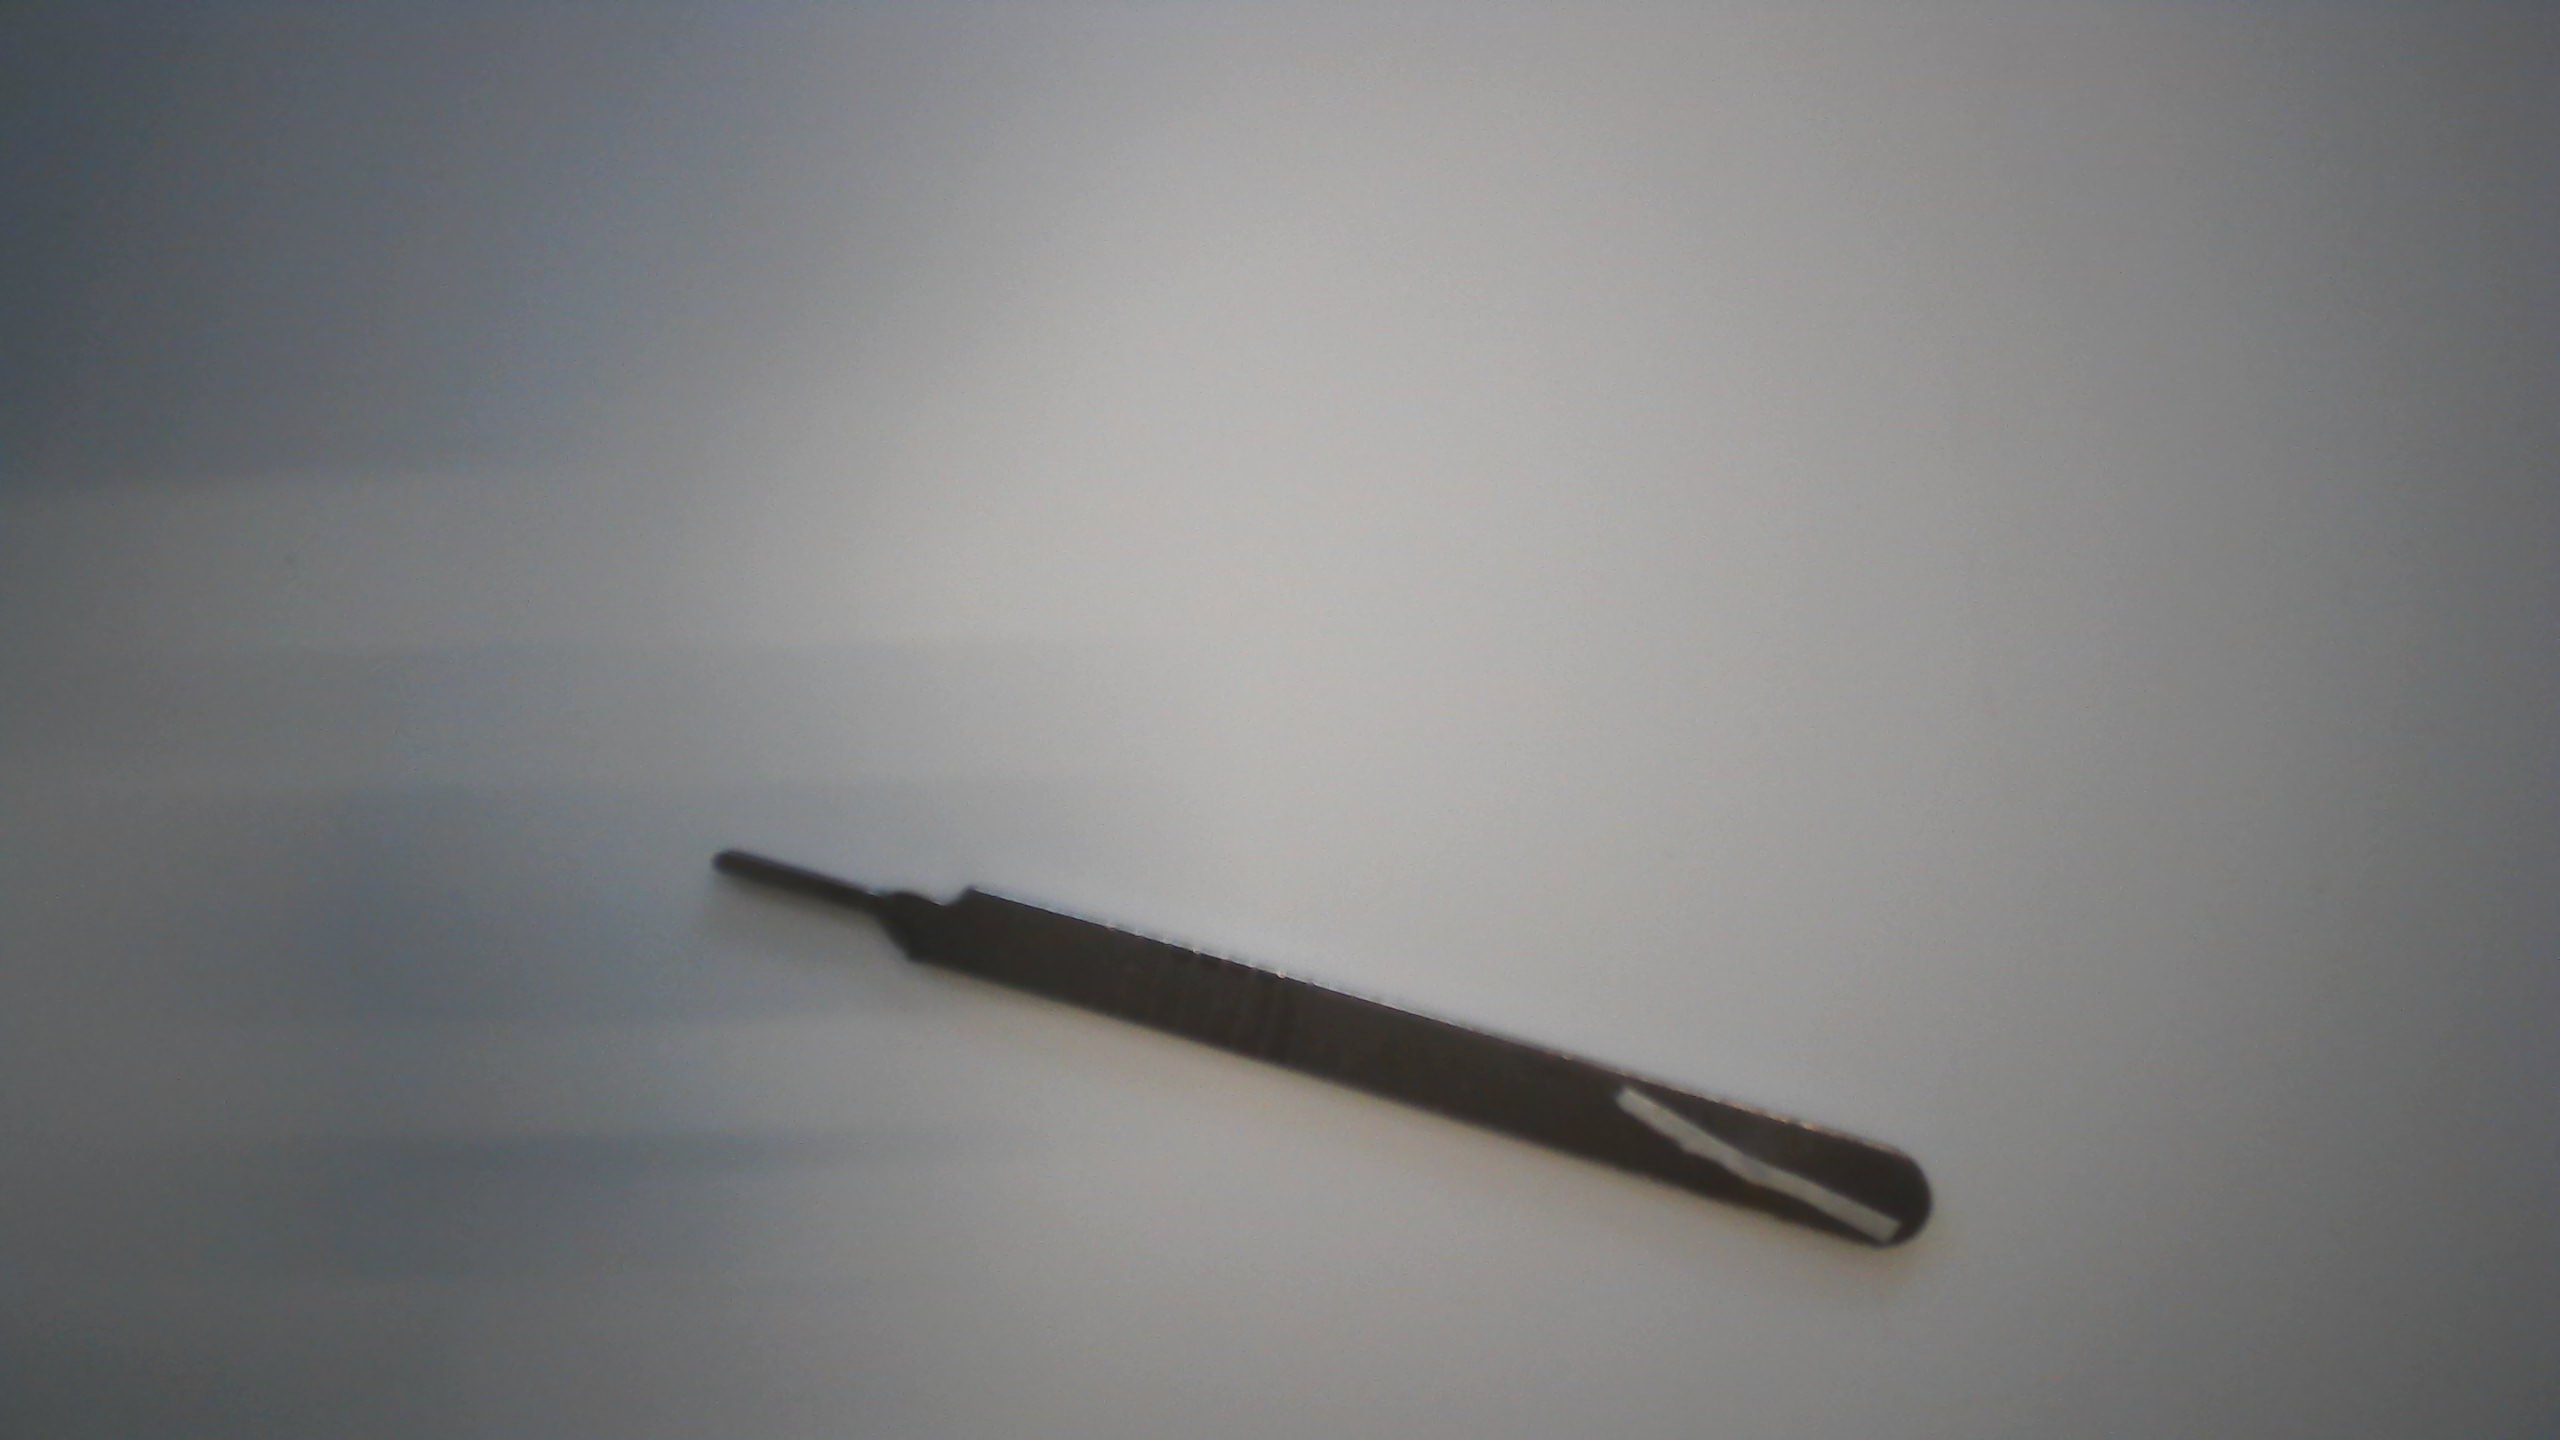Scratches: (1602, 1074, 1913, 1254)
